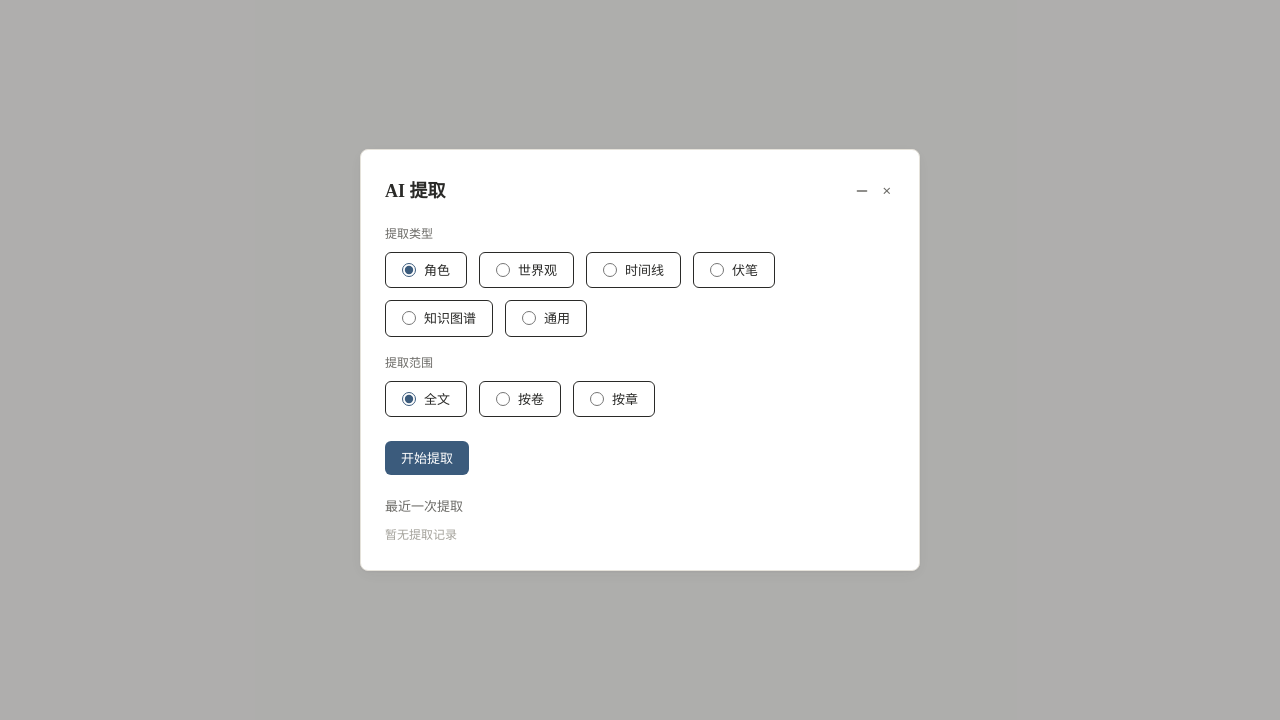
Test: 「AI 提取」结果视图 + 最小化（#1532 / #1546） › 契约2（结果视图）：成功后展示新增/更新清单
The image size is (1280, 720).
Click the radio button labelled "角色" at (409, 270), box [402,263,416,277]
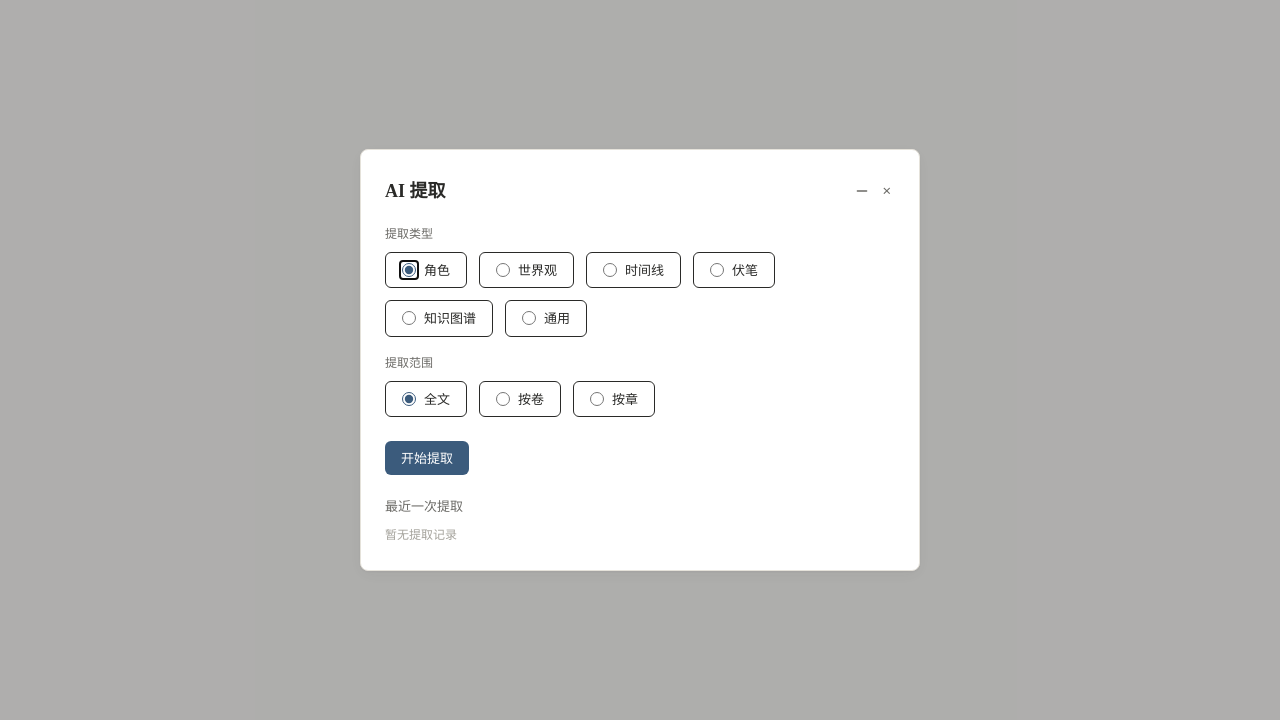
Click the radio button labelled "全文" at (409, 399), box [402,392,416,406]
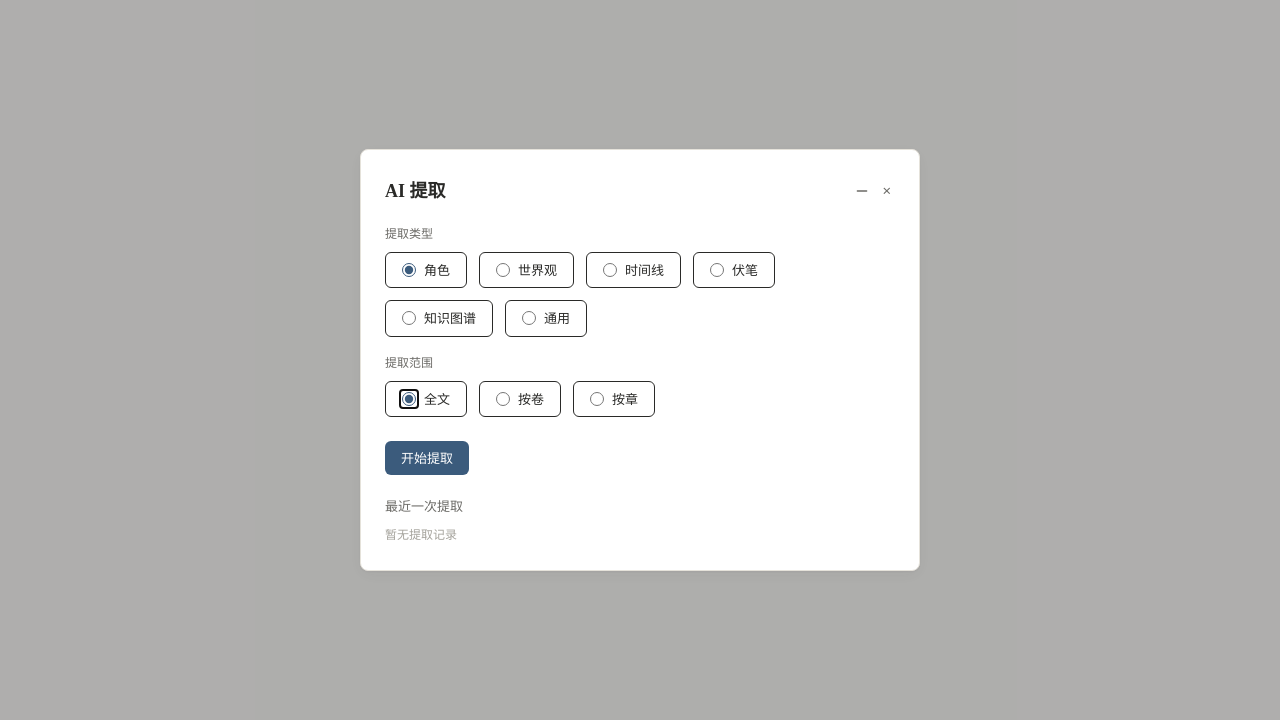
Click the button with test id "ai-extract-run" at (427, 458), box [385,441,469,475]
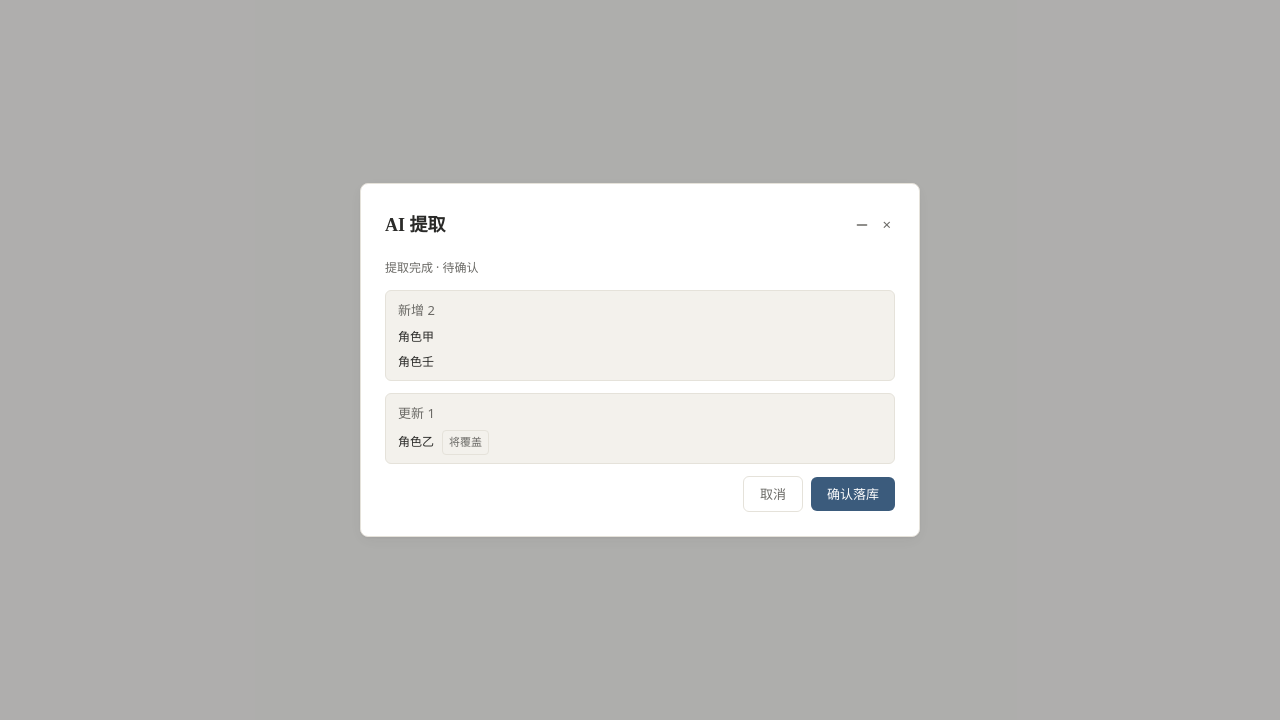
Result: the number of list items with test id "ai-extract-created-item" is 2 at [398,328,434,345]; [398,352,434,370]
Result: the list item "角色甲" is shown at [398,328,434,345]
Result: the number of list items with test id "ai-extract-updated-item" is 1 at [398,430,489,455]
